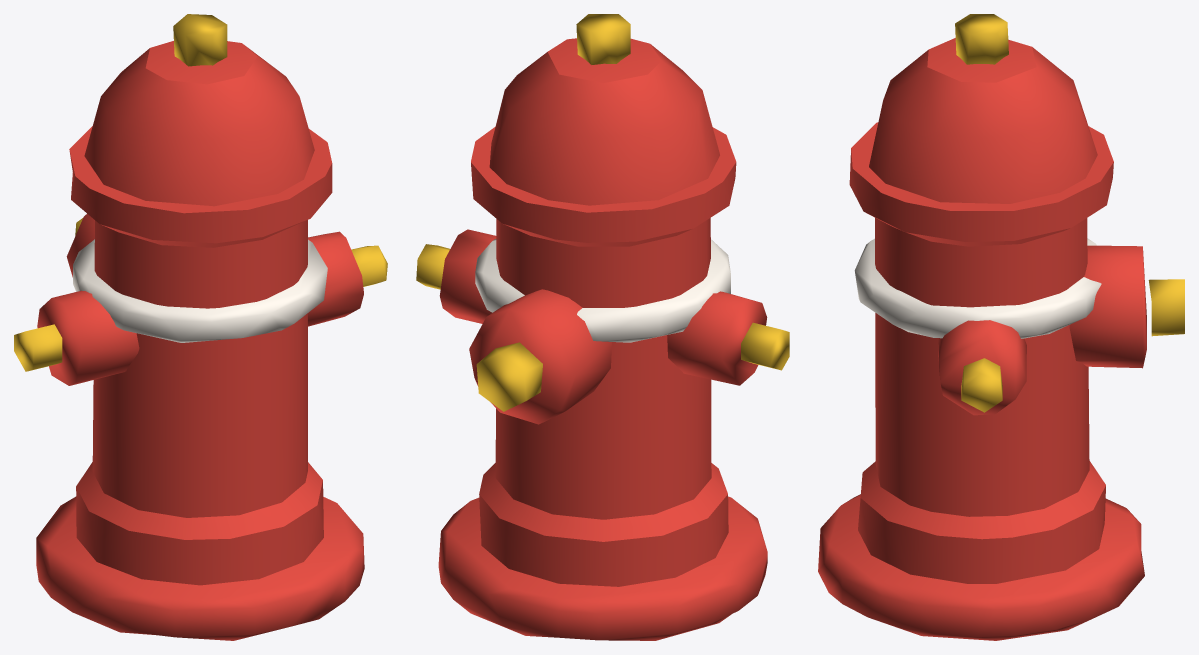
Rendered from hydrant.glb.
3 renders of one model, left to right at view 1: azimuth 30°, elevation 25°; view 2: azimuth 150°, elevation 25°; view 3: azimuth 270°, elevation 25°, orthographic.
Visible parts, largest first — view 1: hydrant; view 2: hydrant; view 3: hydrant.
Boxes of the visible parts, x1,y1,x2,y2 form: hydrant: (14, 14, 387, 640); hydrant: (416, 14, 789, 640); hydrant: (818, 14, 1184, 640).
Size of the model in its own units: 0.4946 by 0.7375 by 0.4432.
Materials: 1 (1 with a texture image).
